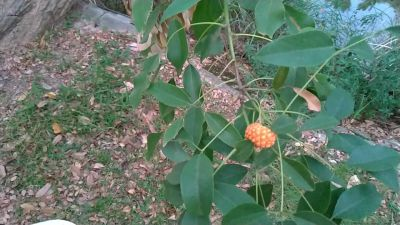eggs: (243, 119, 276, 149)
